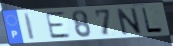7: (94, 8, 113, 37)
8: (71, 9, 93, 39)
E: (44, 10, 73, 40)
I: (23, 12, 37, 42)
L: (140, 6, 165, 34)
N: (115, 6, 144, 36)
